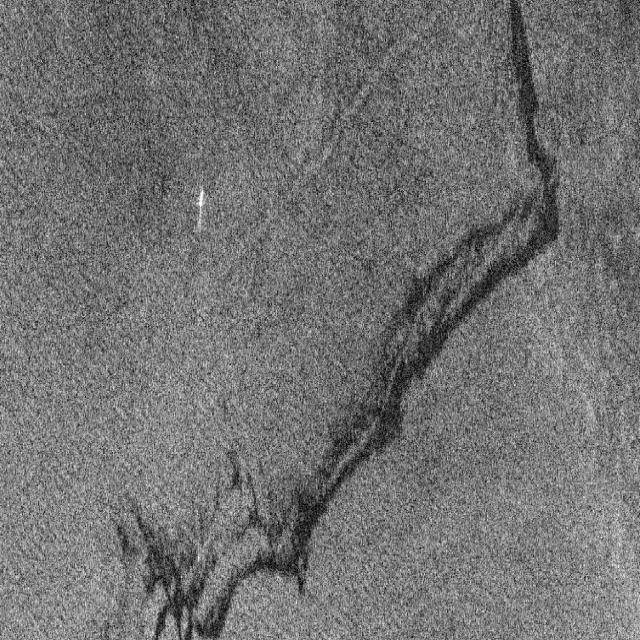look-alike: (304, 191, 558, 548), (115, 465, 302, 640), (500, 3, 564, 190)
